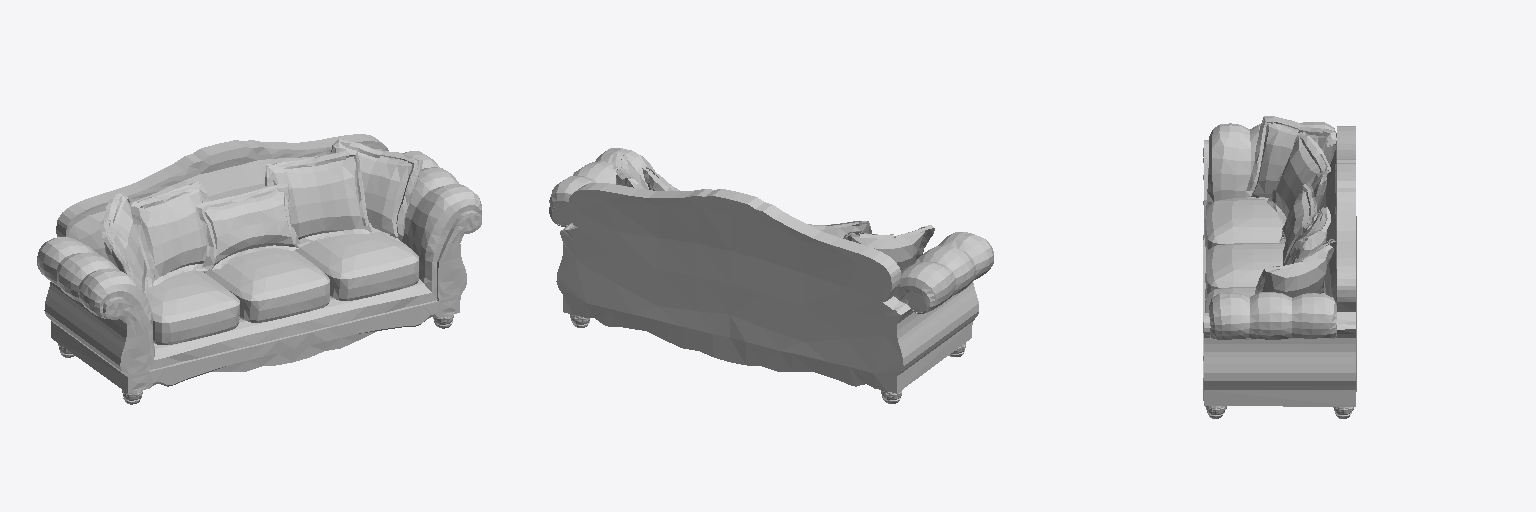
The model's file is sillon.obj.
The picture shows the model from 3 angles: view 1: azimuth 30°, elevation 25°; view 2: azimuth 150°, elevation 25°; view 3: azimuth 270°, elevation 25°; orthographic projection.
Visible parts, largest first — view 1: sofa_03_Mesh.009; view 2: sofa_03_Mesh.009; view 3: sofa_03_Mesh.009.
Part boxes in pixels (bbox=[...]): sofa_03_Mesh.009: bbox=[37, 134, 481, 404]; sofa_03_Mesh.009: bbox=[549, 148, 993, 403]; sofa_03_Mesh.009: bbox=[1203, 116, 1356, 418].
Size of the model in its own units: 2.73 by 1.12 by 0.9251.